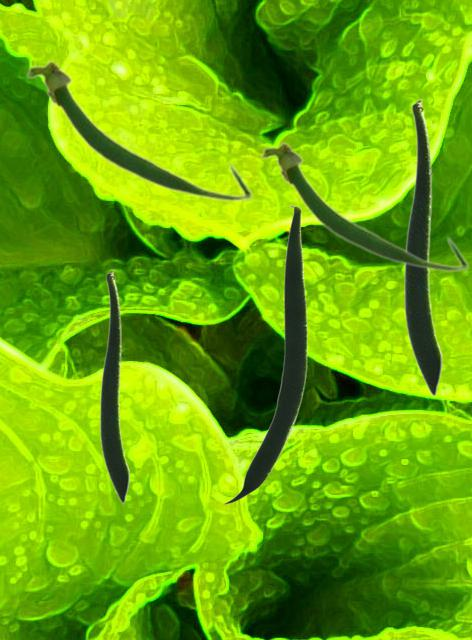french_bean: (24, 58, 253, 202), (259, 140, 469, 272), (223, 205, 306, 503), (403, 98, 442, 396), (99, 269, 129, 503)
